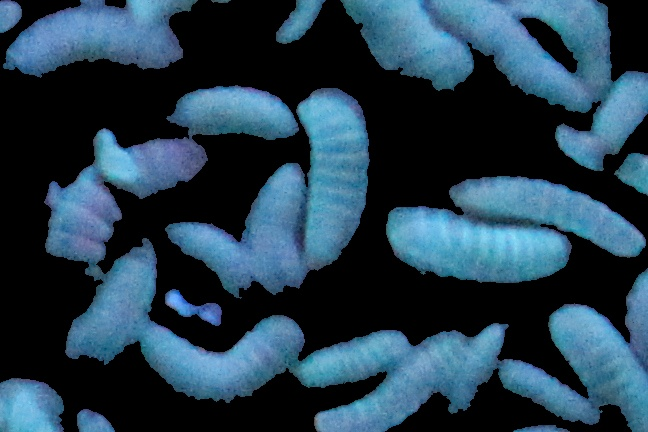larvae: (28, 121, 207, 256), (435, 1, 591, 122), (449, 161, 646, 256), (141, 310, 306, 411), (302, 331, 465, 432), (380, 201, 584, 280), (332, 1, 472, 111), (296, 73, 370, 275), (13, 8, 179, 89), (545, 297, 648, 426), (61, 237, 158, 370), (506, 1, 618, 92), (144, 87, 308, 149), (161, 222, 253, 313), (495, 355, 605, 430), (253, 165, 310, 303), (303, 329, 408, 384), (452, 313, 502, 412), (592, 67, 648, 151)
